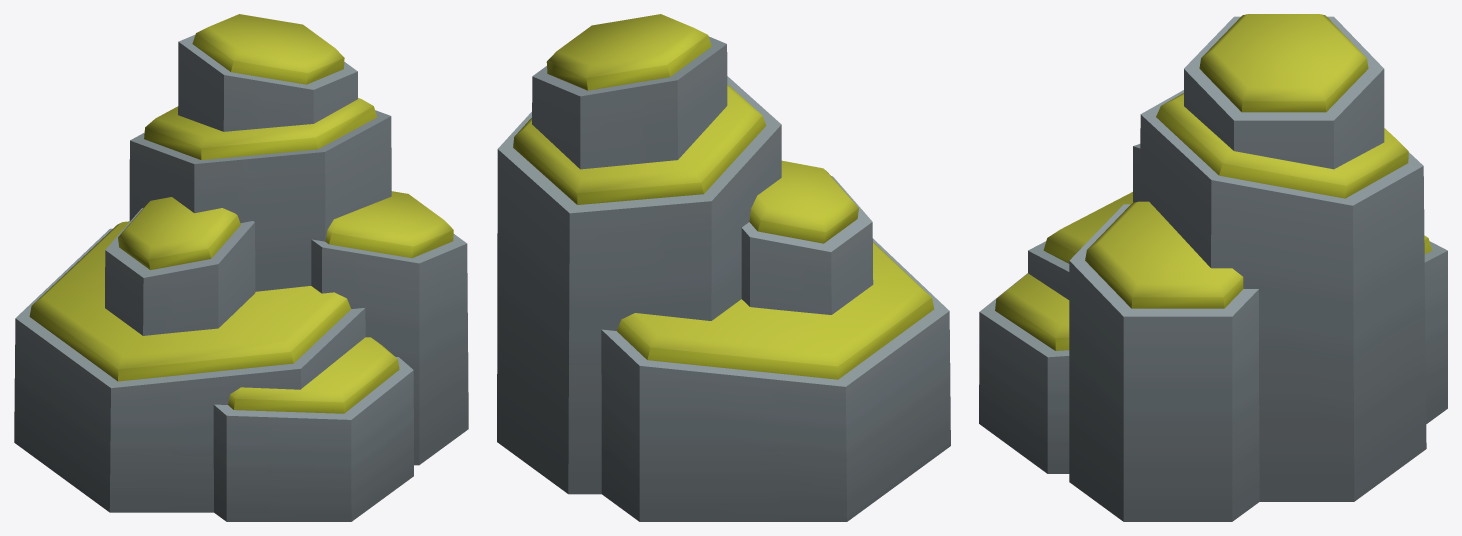
The model's file is mountain_b_grass.glb.
The picture shows the model from 3 angles, left to right: view 1: azimuth 30°, elevation 25°; view 2: azimuth 150°, elevation 25°; view 3: azimuth 270°, elevation 25°; orthographic projection. The views are drawn at different scales.
Visible parts, largest first — view 1: mountain_B_grass; view 2: mountain_B_grass; view 3: mountain_B_grass.
Boxes of the visible parts, x1=… form: mountain_B_grass: x1=14, y1=14, x2=468, y2=521; mountain_B_grass: x1=497, y1=14, x2=950, y2=521; mountain_B_grass: x1=979, y1=14, x2=1447, y2=521.
Bounding box in the file's own units: 1.8 × 1.84 × 1.88.
Materials: 1 (1 with a texture image).
